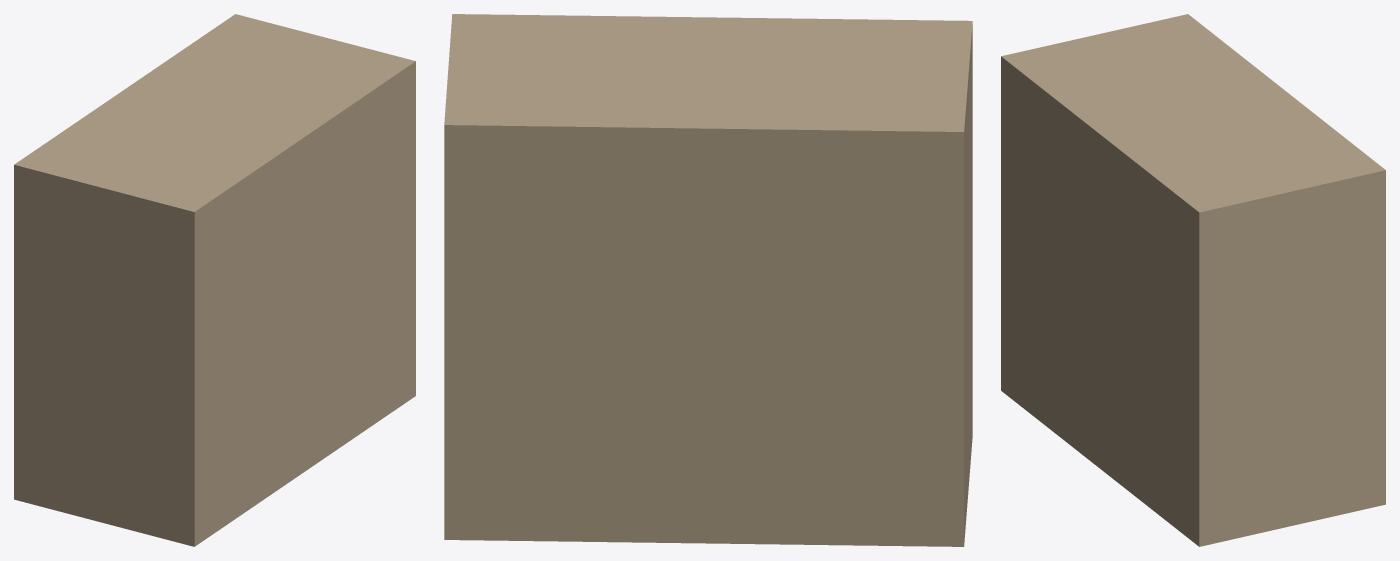
Rendered from bld_106415108.dae.
3 views of the same model, side by side, from view 1: azimuth 30°, elevation 25°; view 2: azimuth 150°, elevation 25°; view 3: azimuth 270°, elevation 25° (orthographic). The views are drawn at different scales.
Parts seen in each view (by area): view 1: bld_106415108; view 2: bld_106415108; view 3: bld_106415108.
Boxes of the visible parts, x1,y1,x2,y2 form: bld_106415108: [14, 14, 415, 546]; bld_106415108: [444, 14, 972, 546]; bld_106415108: [1001, 14, 1385, 546].
Size of the model in its own units: 10.19 by 8.35 by 8.
